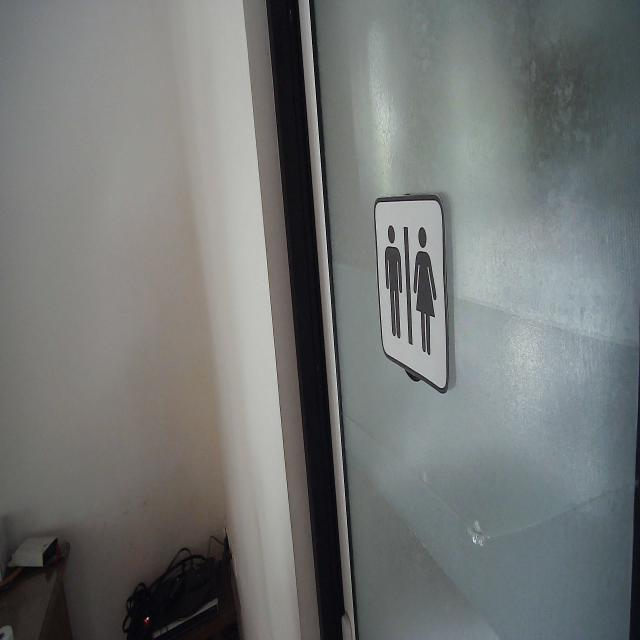restroom: (372, 193, 452, 396)
